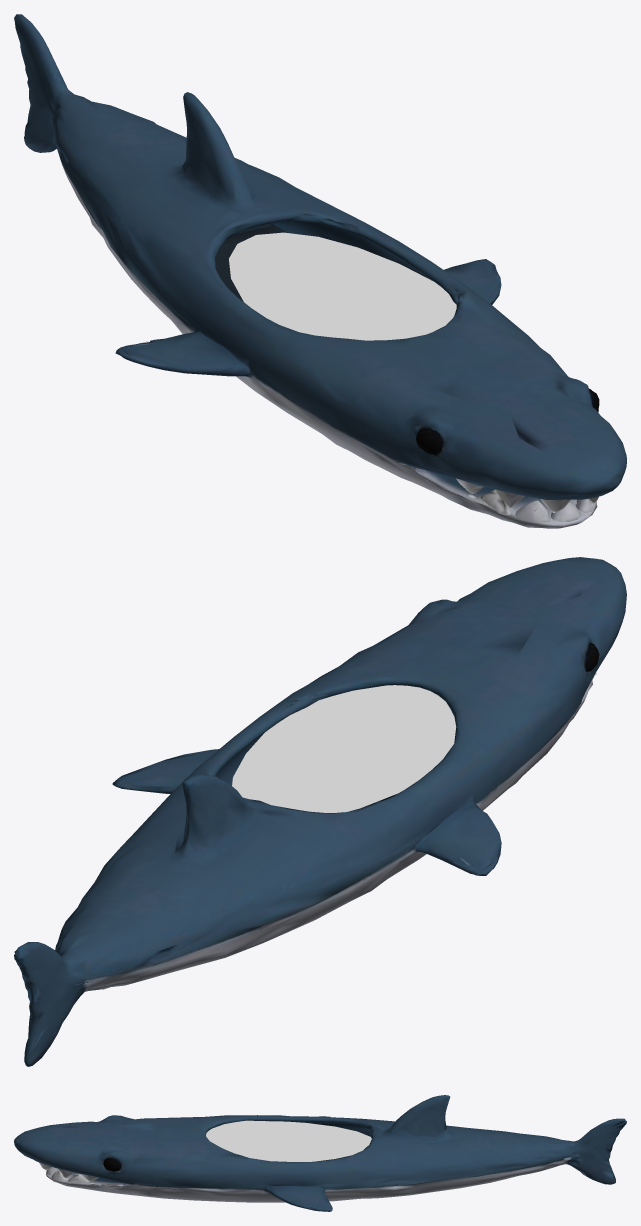
Rendered from Kayak_Shark.glb.
The picture shows the model from 3 angles, top to bottom: view 1: azimuth 30°, elevation 25°; view 2: azimuth 150°, elevation 25°; view 3: azimuth 270°, elevation 25°; orthographic projection. The views are drawn at different scales.
Visible parts, largest first — view 1: Kayak_Shark, Kayak_Shark_Cockpit; view 2: Kayak_Shark, Kayak_Shark_Cockpit; view 3: Kayak_Shark, Kayak_Shark_Cockpit.
Boxes of the visible parts, x1,y1,x2,y2 form: Kayak_Shark: (14,14,626,528); Kayak_Shark_Cockpit: (229,232,456,340); Kayak_Shark: (14,557,626,1066); Kayak_Shark_Cockpit: (232,685,456,812); Kayak_Shark: (14,1095,626,1211); Kayak_Shark_Cockpit: (206,1120,371,1161).
Size of the model in its own units: 3.48 by 1.6 by 9.5.
Materials: 2 (1 with a texture image).
